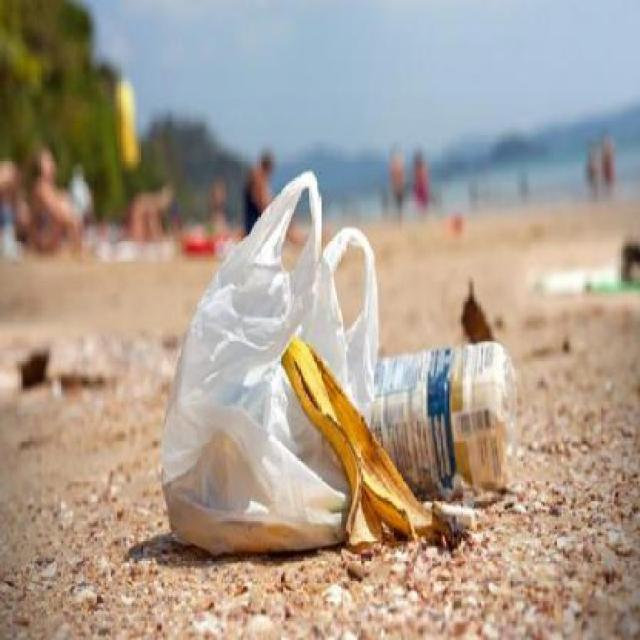Plastic_Bag: (158, 170, 382, 566)
